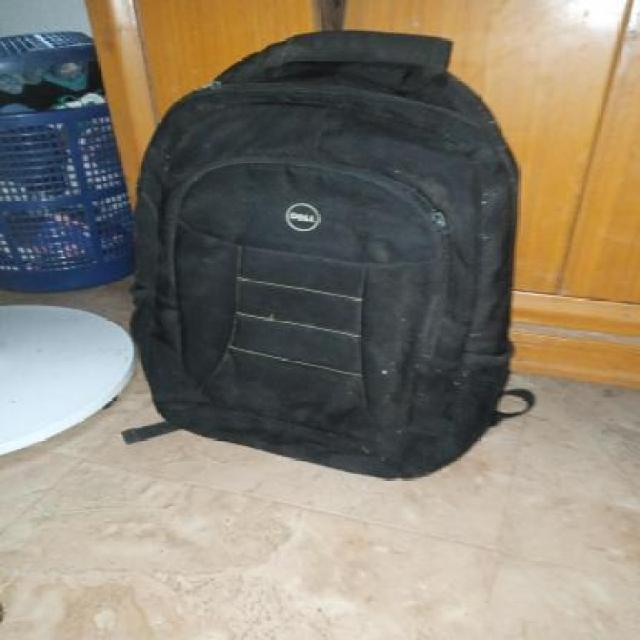backpack: (119, 24, 526, 484)
